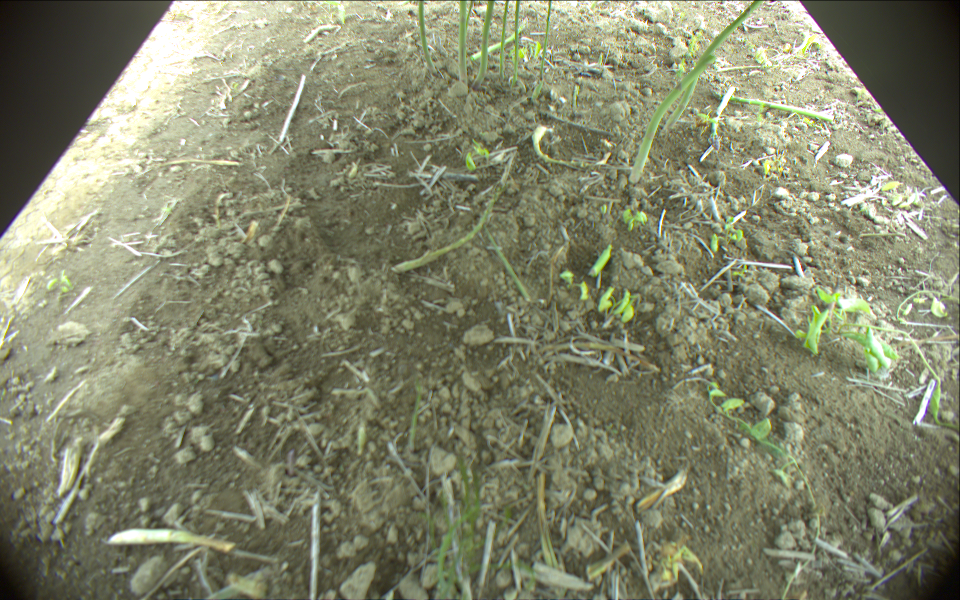aspa: (661, 1, 763, 135), (630, 53, 717, 180), (393, 190, 505, 272), (715, 86, 836, 121), (468, 19, 529, 60), (418, 1, 436, 72), (453, 1, 468, 83), (497, 1, 511, 75), (541, 1, 554, 79), (479, 1, 491, 77), (513, 1, 521, 82)
